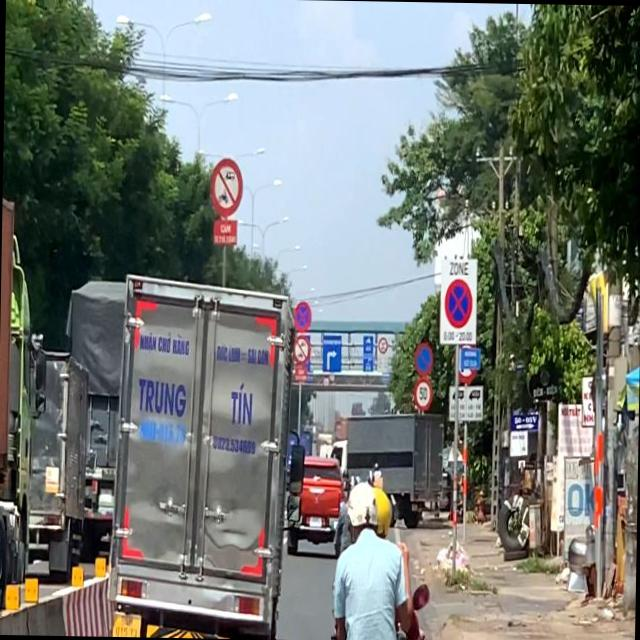P-130: (444, 279, 473, 326)
